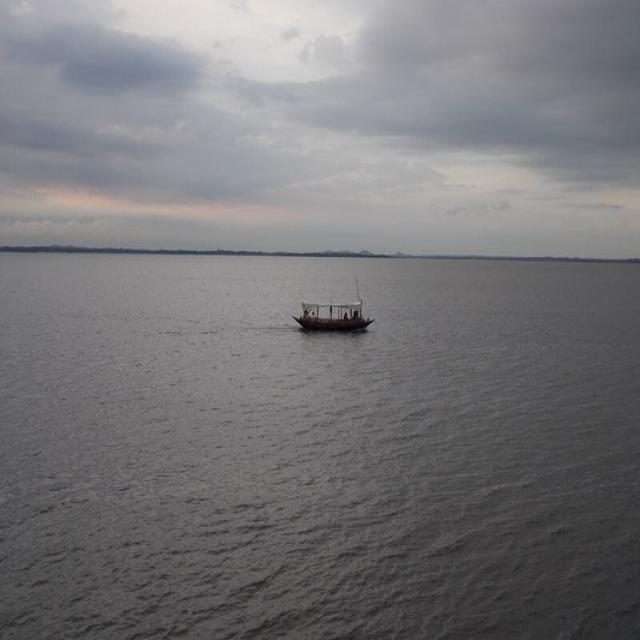fishing boat: (287, 300, 369, 342)
